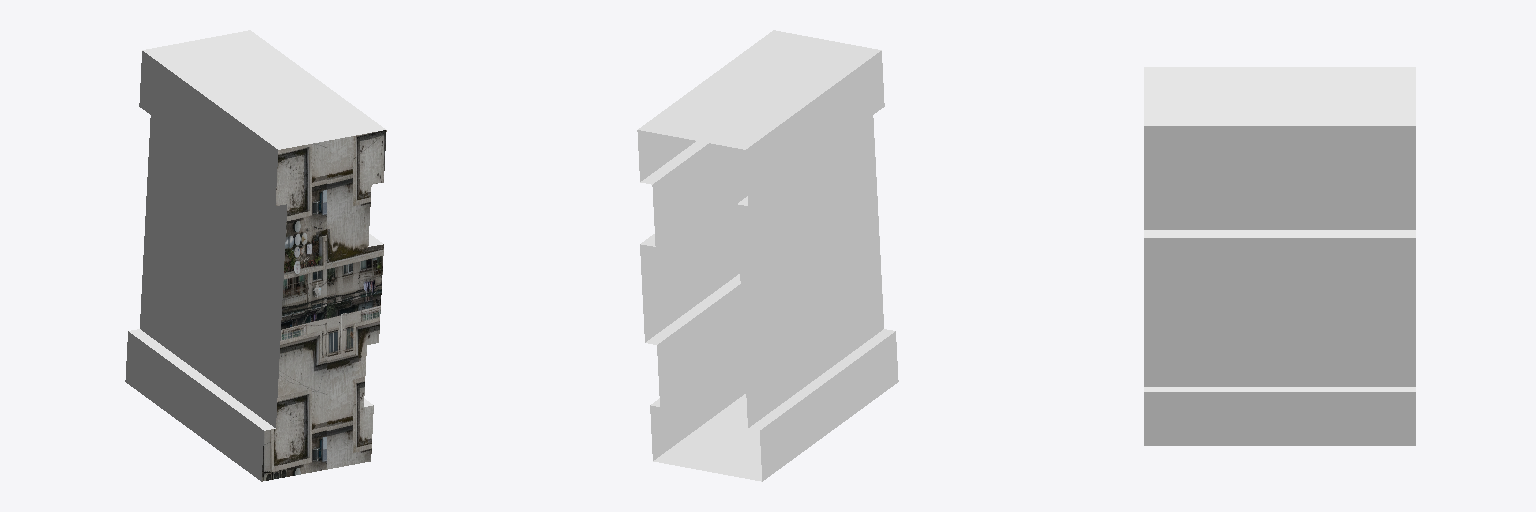
3 views of the same model, side by side, from view 1: azimuth 30°, elevation 25°; view 2: azimuth 150°, elevation 25°; view 3: azimuth 270°, elevation 25° (orthographic).
Visible parts, largest first — view 1: Building; view 2: Building; view 3: Building.
Part boxes in pixels (x1,y1,x2,y2): Building: (125, 30, 386, 481); Building: (637, 30, 898, 481); Building: (1144, 67, 1415, 445).
Size of the model in its own units: 12.71 by 32.47 by 24.
2 materials, 1 textured.